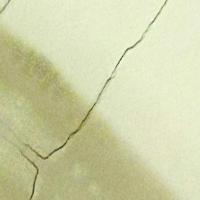crack: (3, 1, 154, 199)
